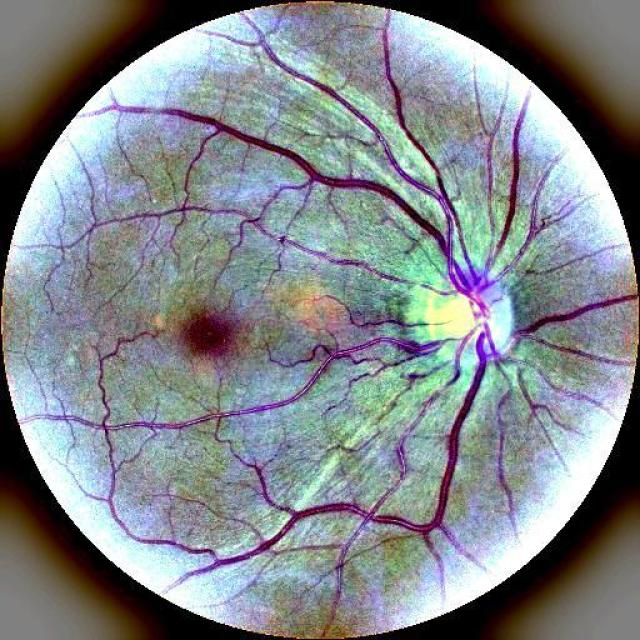Macula: (170, 298, 256, 371)
Nerves: (91, 101, 508, 574), (231, 30, 381, 140), (245, 210, 409, 281), (495, 354, 564, 466), (510, 292, 639, 341), (495, 92, 530, 254), (490, 358, 516, 531), (501, 198, 544, 274), (503, 191, 515, 239), (512, 141, 519, 173), (498, 242, 502, 252), (512, 176, 516, 186)
Optic Disk: (430, 269, 522, 367)
